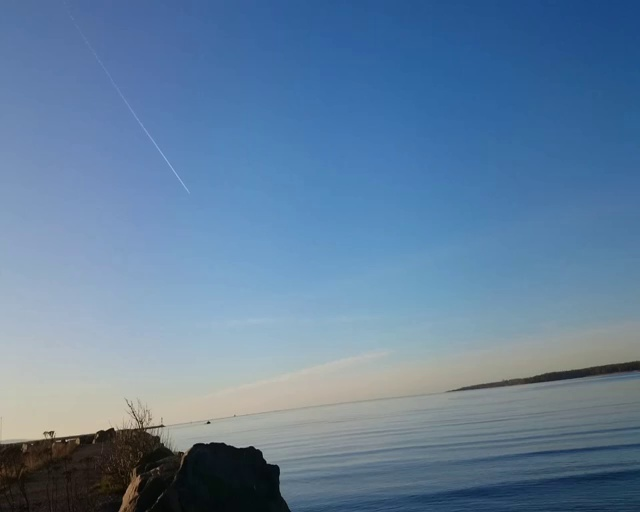AIRPLANE: (62, 8, 193, 195)
